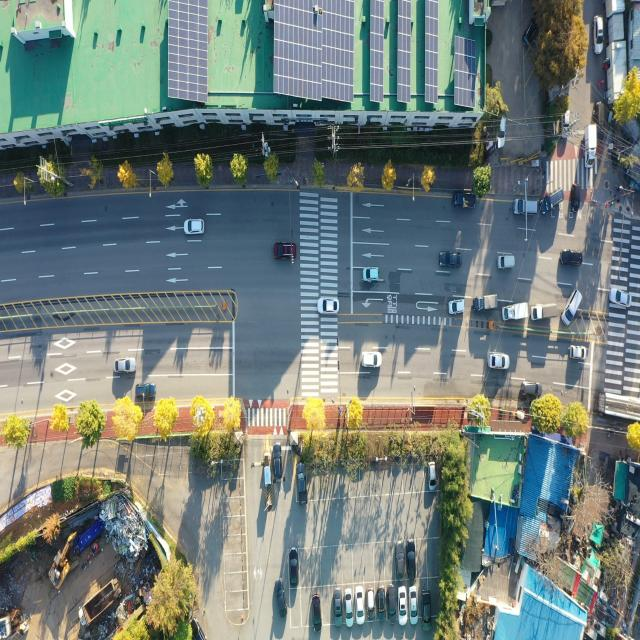car: (564, 289, 582, 325), (541, 187, 564, 214), (522, 18, 539, 51), (275, 576, 288, 619), (560, 247, 583, 268), (513, 196, 538, 214), (395, 540, 406, 580), (610, 288, 632, 308), (298, 462, 308, 505), (274, 242, 297, 260), (407, 536, 416, 582), (386, 584, 397, 620), (497, 115, 507, 153), (422, 590, 431, 632), (316, 296, 338, 313), (594, 16, 603, 56), (440, 251, 462, 267), (366, 586, 376, 621), (360, 351, 380, 368), (135, 383, 156, 399), (345, 589, 354, 626), (355, 586, 364, 623), (312, 596, 321, 632), (290, 549, 299, 585), (184, 218, 204, 234), (274, 440, 282, 480), (489, 354, 509, 369), (571, 184, 581, 214), (377, 585, 385, 622), (114, 358, 135, 372), (595, 105, 604, 136), (568, 346, 586, 361), (561, 111, 571, 138), (398, 587, 405, 624), (498, 253, 514, 269), (428, 462, 436, 493), (411, 589, 418, 624), (449, 301, 465, 316), (334, 590, 342, 620), (362, 268, 378, 282)
small_truck: (501, 302, 529, 323), (473, 293, 499, 315), (584, 124, 596, 170), (530, 304, 557, 324), (452, 193, 476, 211)
